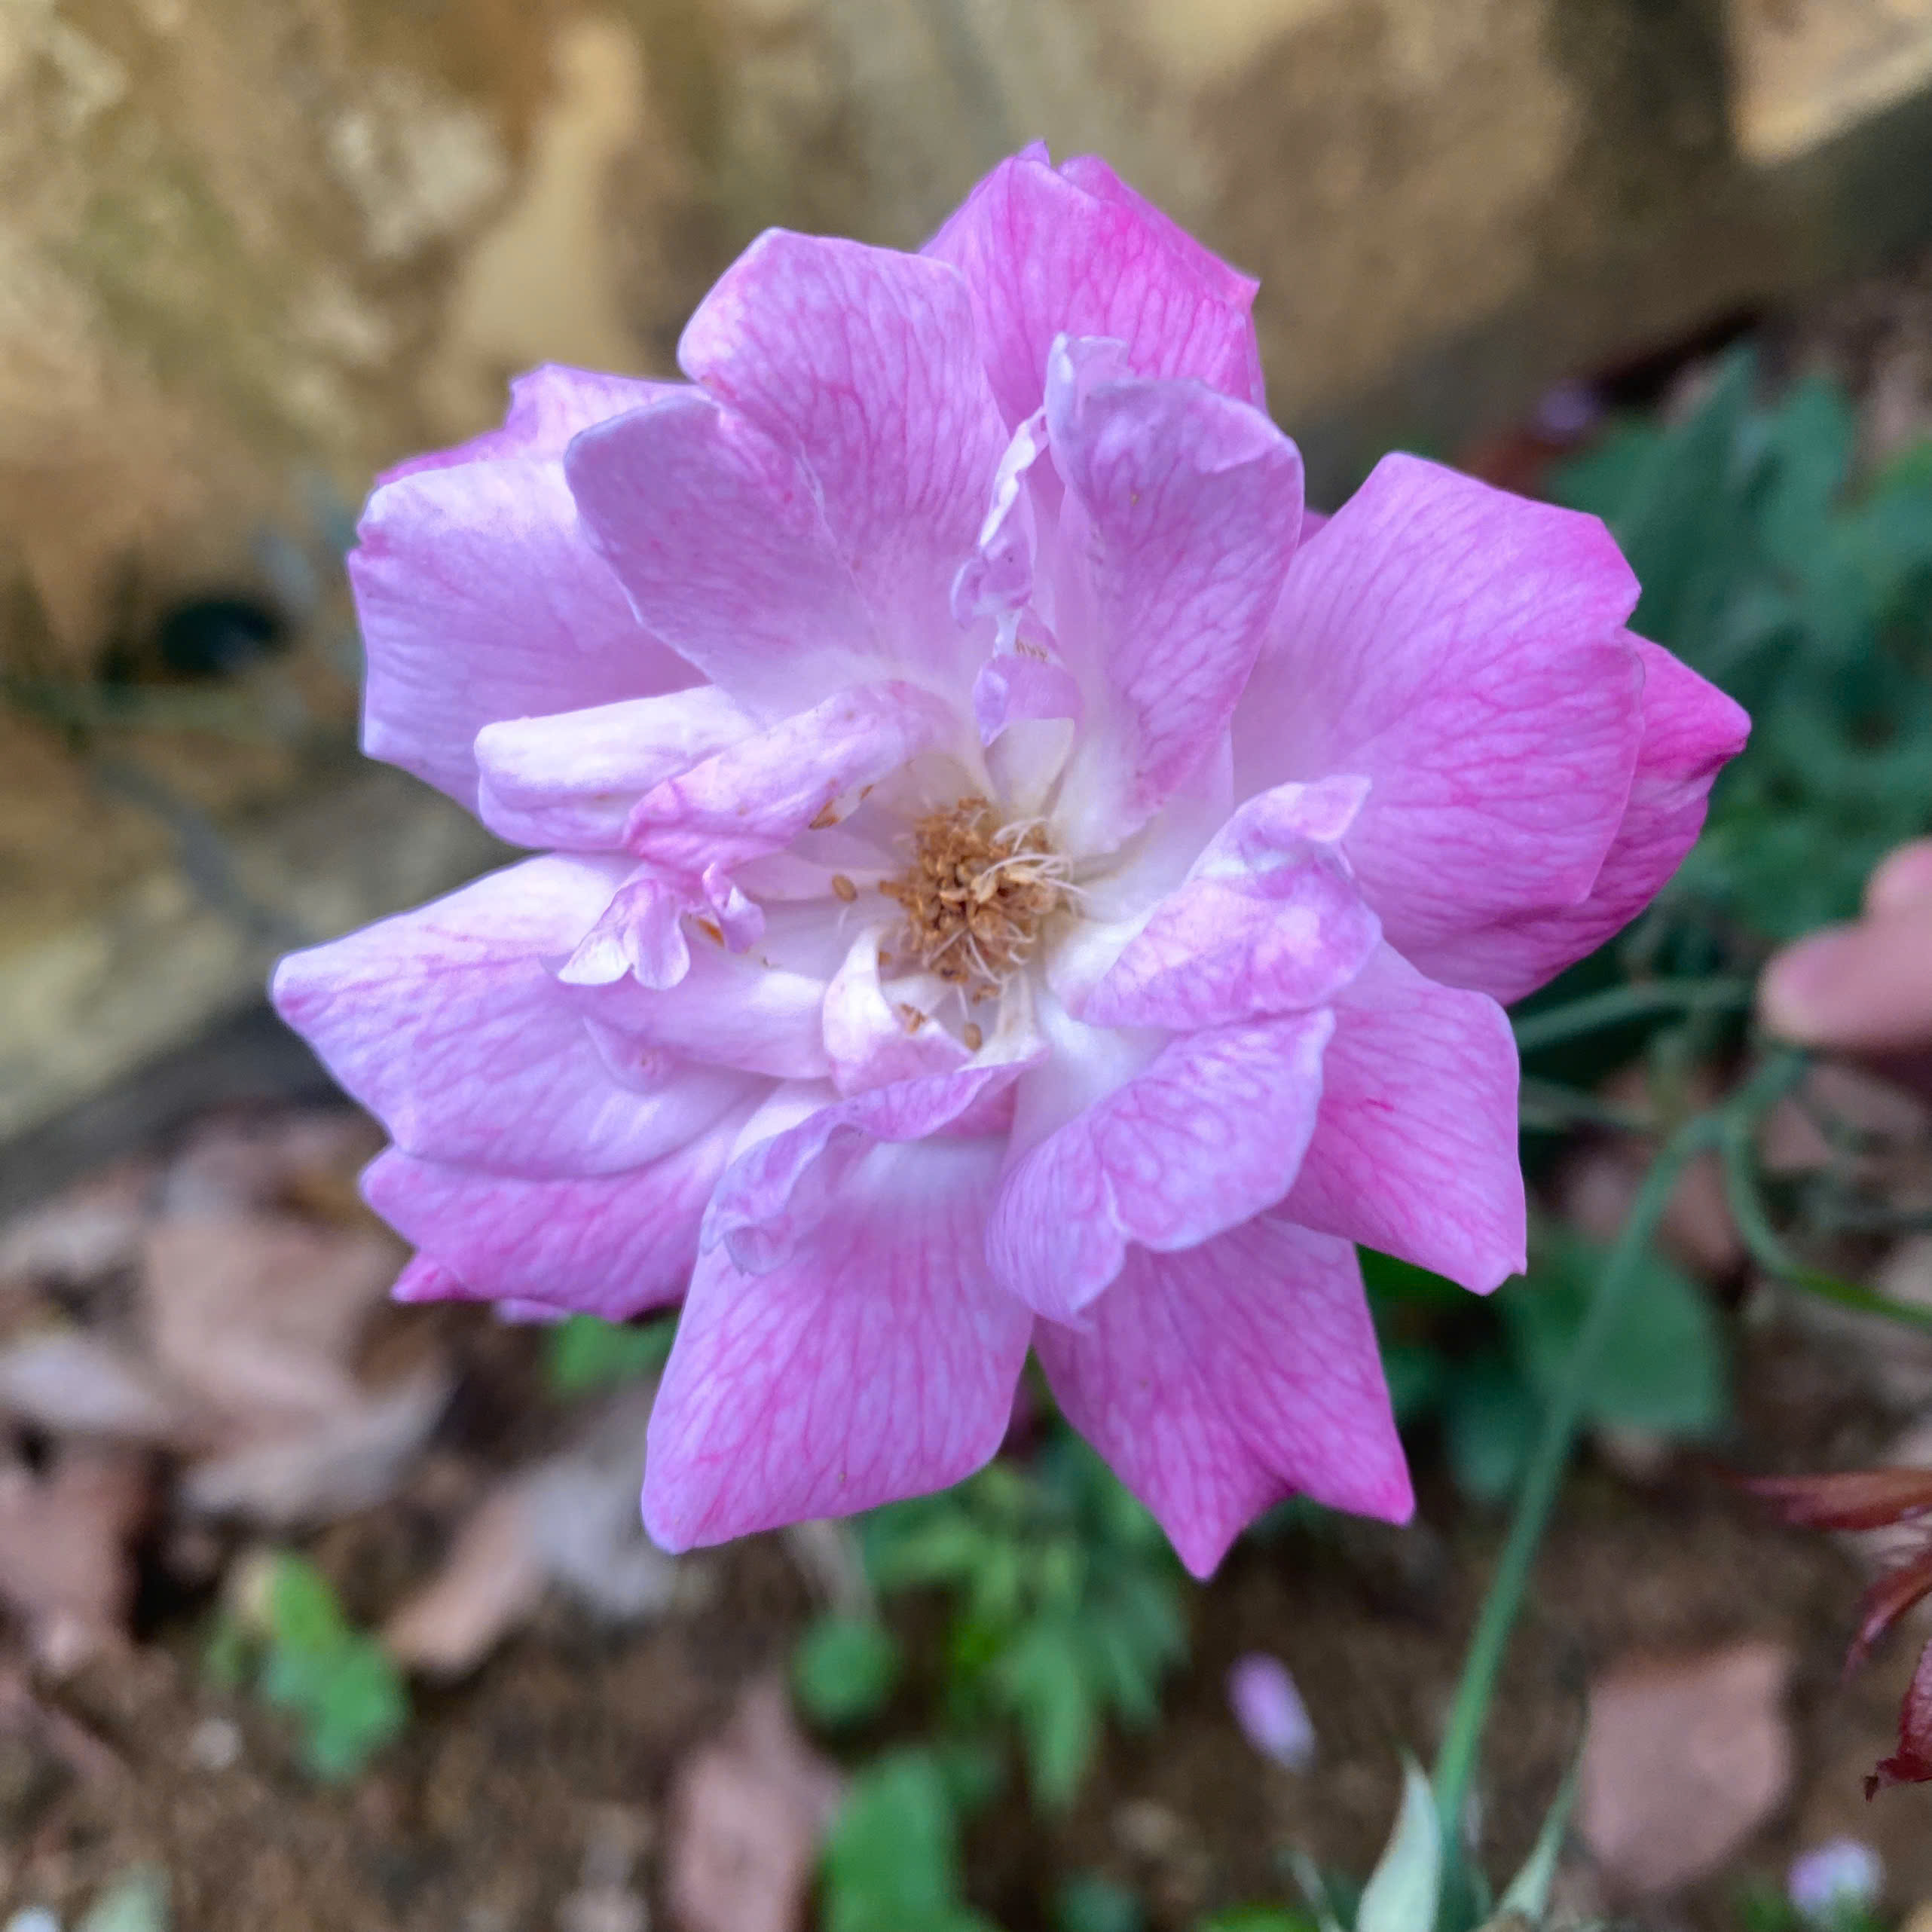hoa_hong_phan: (260, 117, 1789, 1626)
